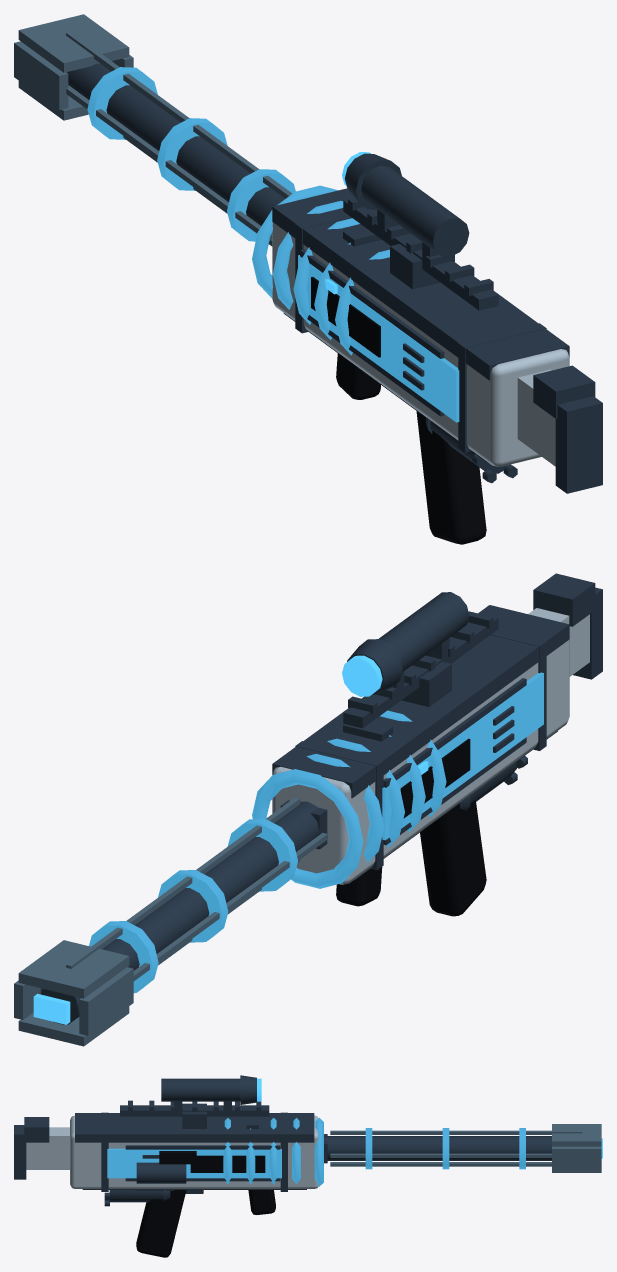
File: rail_cannon.glb
The picture shows the model from 3 angles, top to bottom: view 1: azimuth 30°, elevation 25°; view 2: azimuth 150°, elevation 25°; view 3: azimuth 270°, elevation 25°; orthographic projection. The views are drawn at different scales.
Visible parts, largest first — view 1: Receiver, Barrel, Stock, MuzzleDevice, Scope, Grip, Extras, Rail, ForeGrip; view 2: Receiver, Barrel, MuzzleDevice, Extras, Scope, Grip, Stock, Rail, ForeGrip; view 3: Receiver, Barrel, Extras, Stock, Scope, MuzzleDevice, Grip, Rail, Magazine, ForeGrip.
Part boxes in pixels (x1=…): Receiver: x1=272, y1=188, x2=569, y2=466; Barrel: x1=66, y1=31, x2=295, y2=246; Stock: x1=517, y1=365, x2=602, y2=493; MuzzleDevice: x1=14, y1=14, x2=133, y2=120; Scope: x1=342, y1=152, x2=469, y2=263; Grip: x1=416, y1=411, x2=486, y2=544; Extras: x1=252, y1=185, x2=389, y2=355; Rail: x1=343, y1=197, x2=498, y2=310; ForeGrip: x1=336, y1=353, x2=380, y2=399; Receiver: x1=272, y1=605, x2=569, y2=884; Barrel: x1=40, y1=797, x2=327, y2=1024; MuzzleDevice: x1=14, y1=940, x2=133, y2=1046; Extras: x1=252, y1=710, x2=446, y2=888; Scope: x1=342, y1=592, x2=469, y2=696; Grip: x1=420, y1=800, x2=486, y2=916; Stock: x1=528, y1=573, x2=602, y2=679; Rail: x1=343, y1=611, x2=498, y2=728; ForeGrip: x1=336, y1=867, x2=382, y2=906; Receiver: x1=70, y1=1103, x2=318, y2=1191; Barrel: x1=324, y1=1128, x2=582, y2=1169; Extras: x1=136, y1=1117, x2=323, y2=1186; Stock: x1=14, y1=1117, x2=69, y2=1179; Scope: x1=161, y1=1075, x2=261, y2=1112; MuzzleDevice: x1=552, y1=1124, x2=602, y2=1172; Grip: x1=136, y1=1190, x2=203, y2=1257; Rail: x1=120, y1=1100, x2=269, y2=1116; Magazine: x1=109, y1=1190, x2=170, y2=1202; ForeGrip: x1=248, y1=1190, x2=275, y2=1214.
Size of the model in its own units: 0.1632 by 0.4186 by 1.25.
